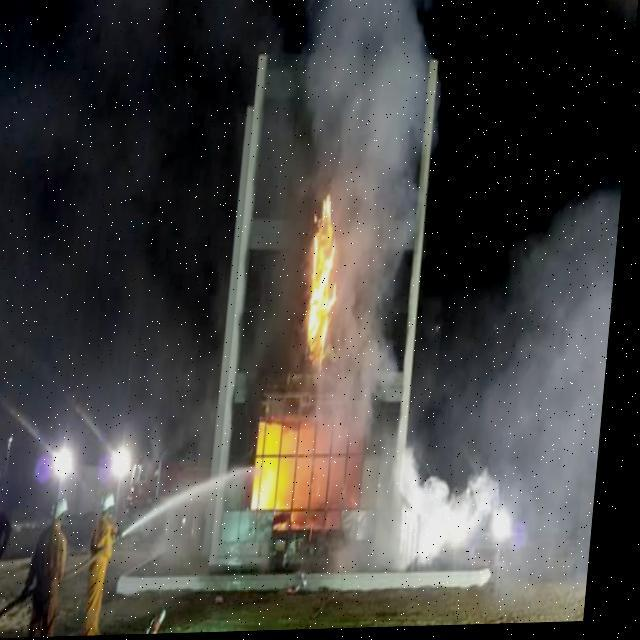Fire: (286, 173, 371, 372), (254, 412, 314, 527)
